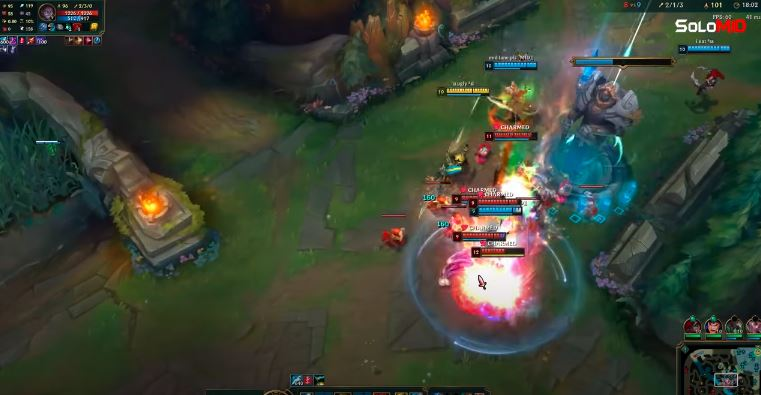bar: (469, 244, 528, 258), (451, 229, 510, 242), (451, 192, 504, 206), (435, 85, 492, 98), (483, 59, 539, 72), (483, 130, 539, 143), (468, 204, 526, 216), (676, 42, 732, 54), (467, 195, 523, 207)
